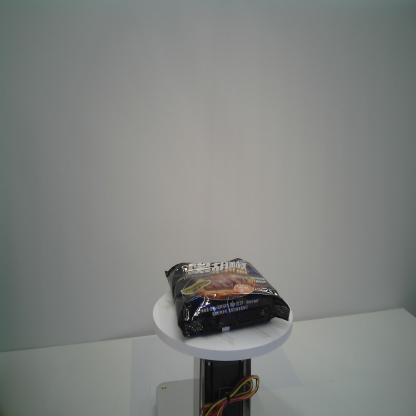Instant Noodles: (165, 259, 292, 340)
